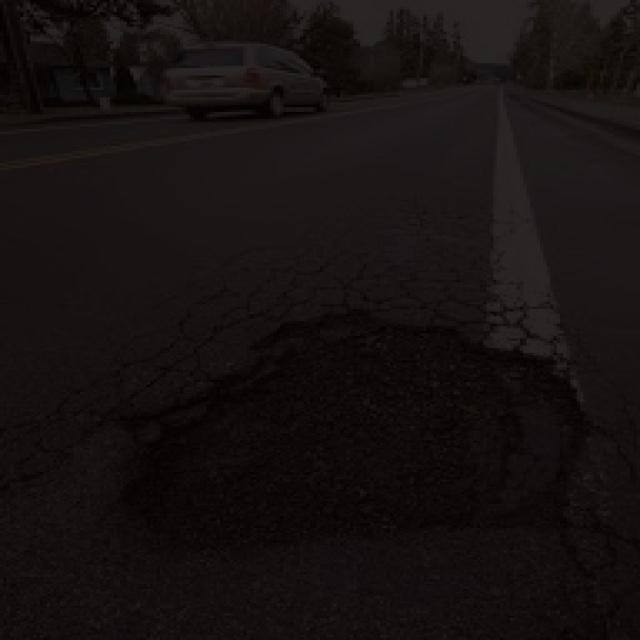Pothole: (100, 287, 594, 557)
